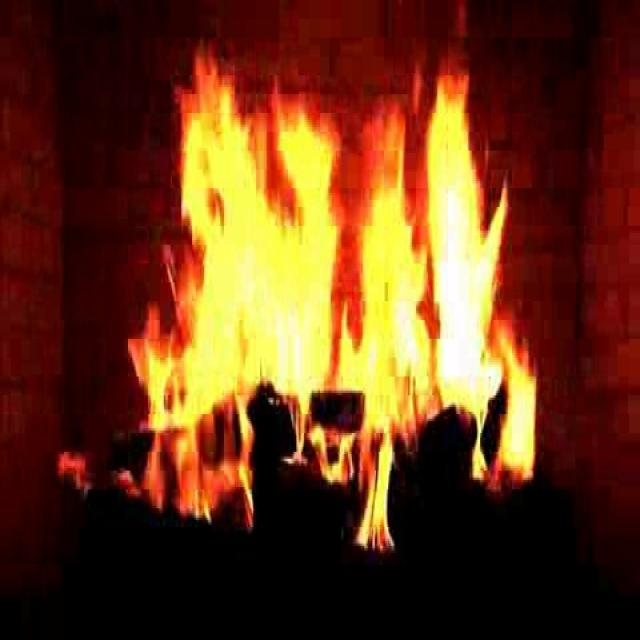Fire: (110, 4, 548, 574)
